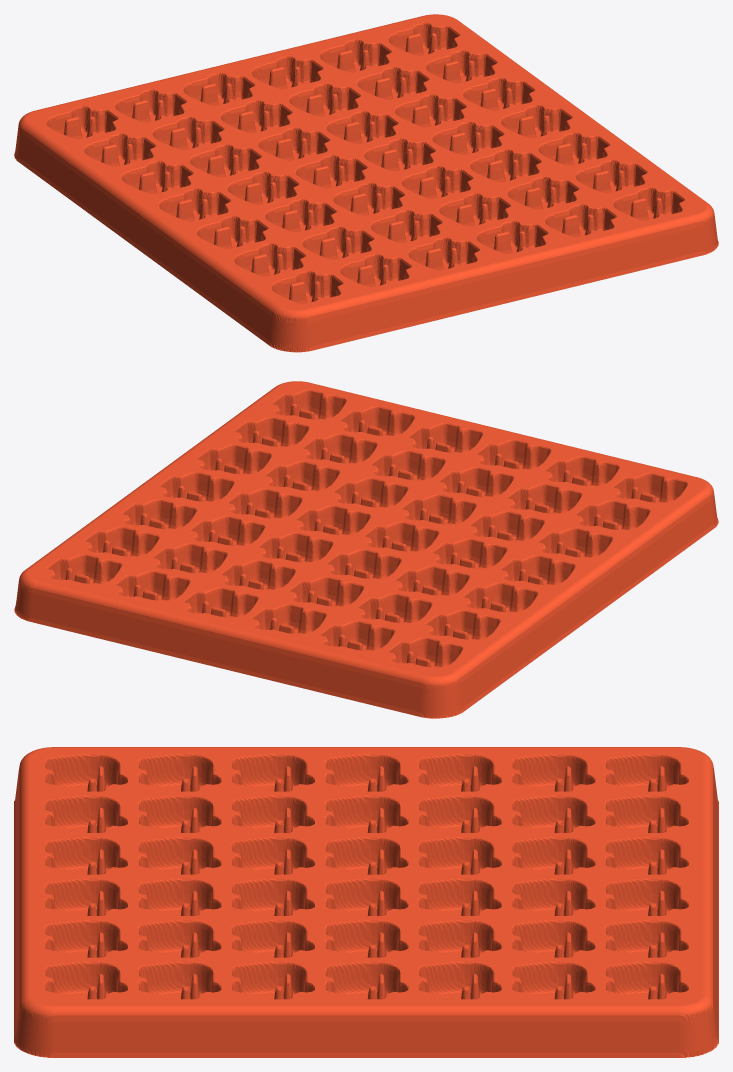
Rendered from mold.glb.
3 views of the same model, one above another, from view 1: azimuth 30°, elevation 25°; view 2: azimuth 150°, elevation 25°; view 3: azimuth 270°, elevation 25° (orthographic). The views are drawn at different scales.
Visible parts, largest first — view 1: geometry_0; view 2: geometry_0; view 3: geometry_0.
Part boxes in pixels (x1,y1,x2,y2): geometry_0: (14,14,718,352); geometry_0: (14,381,718,718); geometry_0: (14,747,718,1057).
Bounding box in the file's own units: 0.1437 × 0.0114 × 0.1581.
